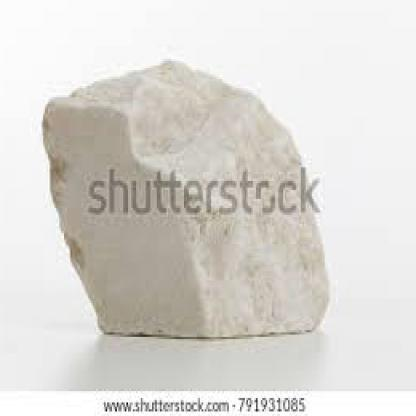Metamorphic_Marble: (40, 49, 334, 344)
